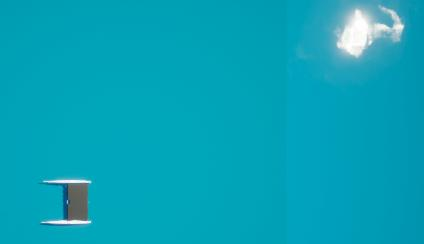boat: (42, 178, 92, 230)
drone: (68, 183, 88, 219)
land_base: (291, 1, 408, 82)
